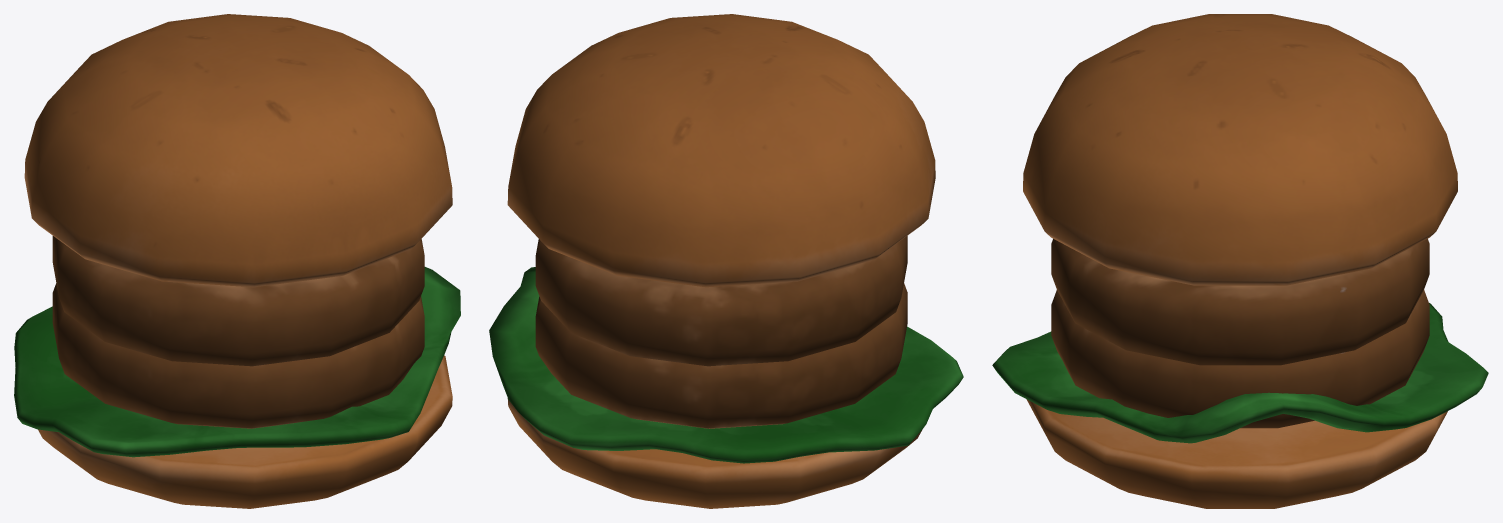
Rendered from MSH_Hamburguesa_P_2C_L_J.fbx.
3 views of the same model, side by side, from view 1: azimuth 30°, elevation 25°; view 2: azimuth 150°, elevation 25°; view 3: azimuth 270°, elevation 25° (orthographic).
Visible parts, largest first — view 1: MSH_Hamburguesa_P_2C_L_J; view 2: MSH_Hamburguesa_P_2C_L_J; view 3: MSH_Hamburguesa_P_2C_L_J.
Part boxes in pixels (x1=…): MSH_Hamburguesa_P_2C_L_J: x1=14, y1=14, x2=460, y2=508; MSH_Hamburguesa_P_2C_L_J: x1=489, y1=14, x2=963, y2=508; MSH_Hamburguesa_P_2C_L_J: x1=992, y1=14, x2=1488, y2=508.
Size of the model in its own units: 16.25 by 16.87 by 15.01.
1 material, 1 textured.
